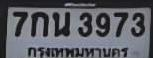3: (77, 11, 91, 36), (130, 11, 144, 36)
7: (12, 11, 27, 36), (113, 11, 127, 36)
9: (95, 12, 109, 36)
A01: (30, 11, 48, 36)
A25: (52, 11, 69, 36)
BKK: (25, 44, 129, 58)
